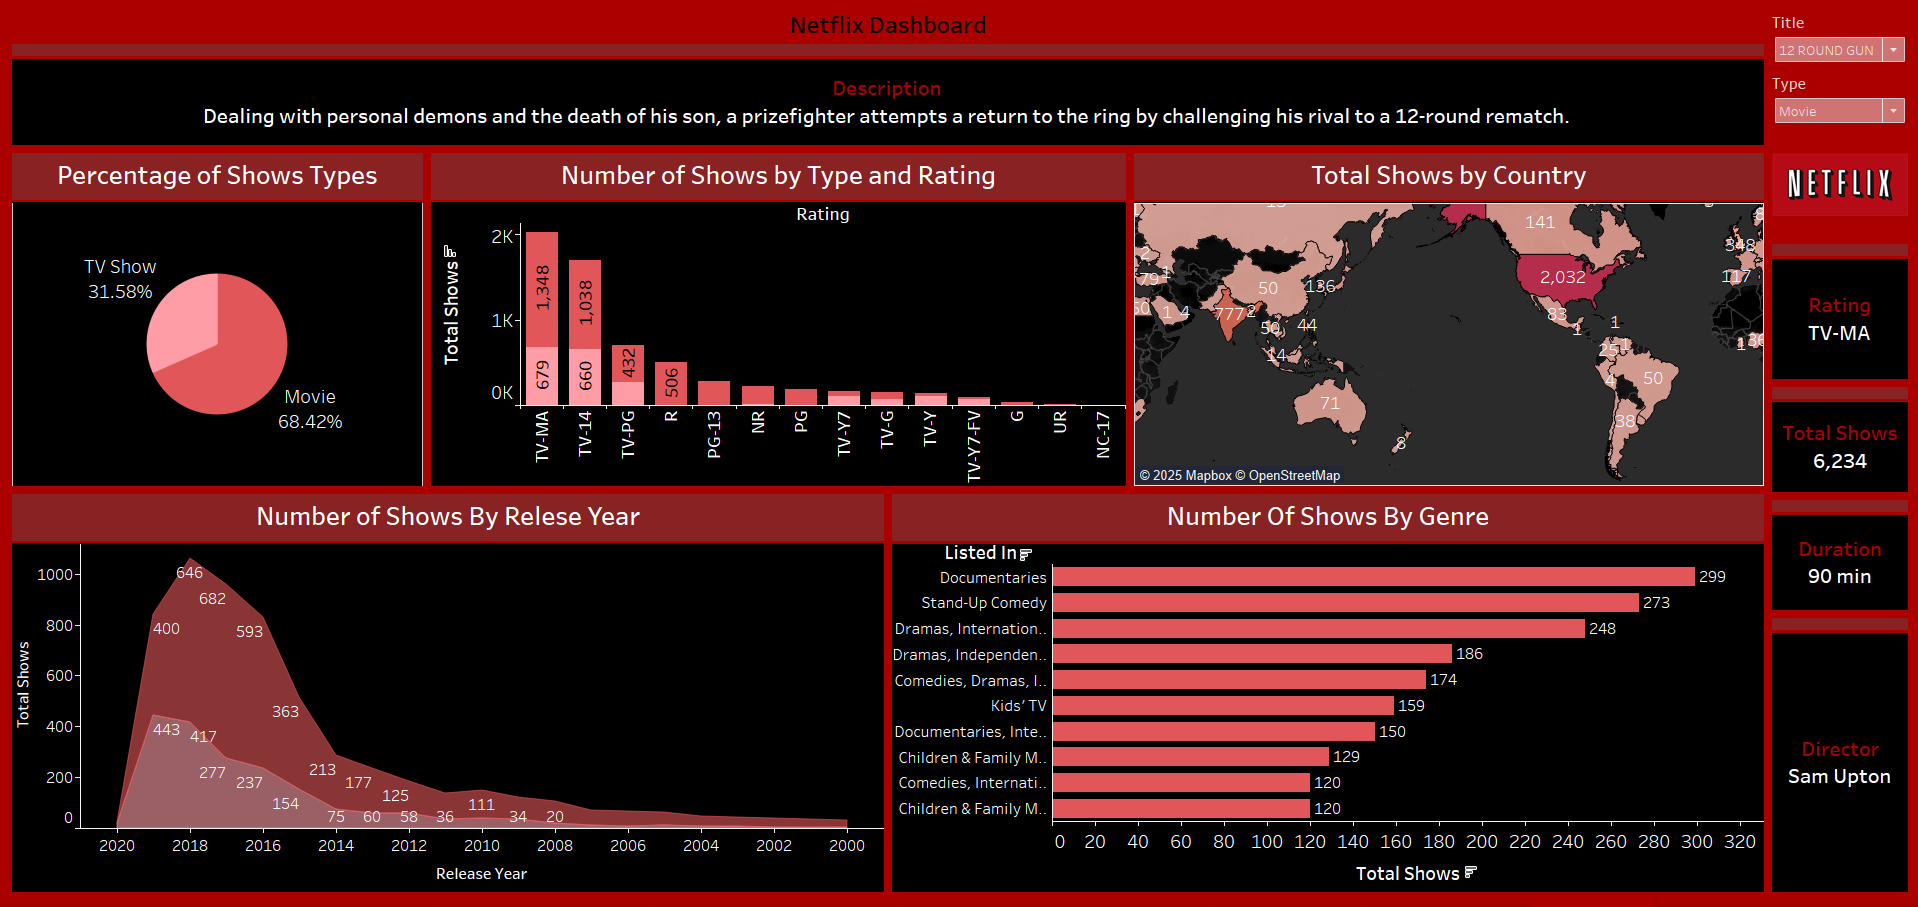

The page's visual inventory and layout, read from the dashboard file:
{"tool":"tableau","page":{"name":"Dashboard 1","canvas":[1000,1000],"units":"permille","ordinal":0},"visuals":[{"type":"title","box":[4.2,10,915.2,40]},{"type":"filter","title":"Director","param":"[federated.1kexfj41potoyb19gyv0f0zji644].[none:title:nk]","box":[919.5,10,76.3,67.5]},{"type":"worksheet","title":"Description","mark":"Automatic","box":[4.2,49.9,915.2,119.4]},{"type":"filter","title":"Director","param":"[federated.1kexfj41potoyb19gyv0f0zji644].[none:type:nk]","box":[919.5,77.4,76.3,67.5]},{"type":"image","param":"Image/Netflix_logo.svg.png","box":[919.5,144.9,76.3,137.3]},{"type":"worksheet","title":"Percentage of Shows Types","mark":"Pie","box":[4.2,169.4,217.9,374.6]},{"type":"worksheet","title":"Number of Shows by Type and Rating","mark":"Automatic","rows":["Calculation_527202691079585792"],"cols":["rating"],"box":[222.2,169.4,365.6,374.6]},{"type":"worksheet","title":"Total Shows by Country","mark":"Automatic","box":[587.7,169.4,331.8,374.6]},{"type":"worksheet","title":"Rating","mark":"Automatic","box":[919.5,282.2,76.3,141.8]},{"type":"worksheet","title":"Total Shows","mark":"Automatic","box":[919.5,424,76.3,141.1]},{"type":"worksheet","title":"Number of Shows By Relese Year","mark":"Area","rows":["Calculation_527202691079585792"],"cols":["release_year"],"box":[4.2,544,457.4,446]},{"type":"worksheet","title":"Number Of Shows By Genre","mark":"Automatic","rows":["listed_in"],"cols":["Calculation_527202691079585792"],"box":[461.6,544,457.9,446]},{"type":"worksheet","title":"Duration","mark":"Automatic","box":[919.5,565.1,76.3,147.3]},{"type":"worksheet","title":"Director","mark":"Automatic","box":[919.5,712.4,76.3,277.6]}]}

Visuals, with their boxes on the dashboard's canvas, which has no fixed pixel size, in thousandths of its width and height (x1, y1, x2, y2). These are canvas units, not pixel positions in the 1918x907 screenshot, which may show the page scaled, cropped or inside an application window:
title: rect(4, 10, 919, 50)
"Director" filter: rect(920, 10, 996, 78)
"Description" worksheet: rect(4, 50, 919, 169)
"Director" filter: rect(920, 77, 996, 145)
image: rect(920, 145, 996, 282)
"Percentage of Shows Types" worksheet (Pie marks): rect(4, 169, 222, 544)
"Number of Shows by Type and Rating" worksheet: rect(222, 169, 588, 544)
"Total Shows by Country" worksheet: rect(588, 169, 920, 544)
"Rating" worksheet: rect(920, 282, 996, 424)
"Total Shows" worksheet: rect(920, 424, 996, 565)
"Number of Shows By Relese Year" worksheet (Area marks): rect(4, 544, 462, 990)
"Number Of Shows By Genre" worksheet: rect(462, 544, 920, 990)
"Duration" worksheet: rect(920, 565, 996, 712)
"Director" worksheet: rect(920, 712, 996, 990)
